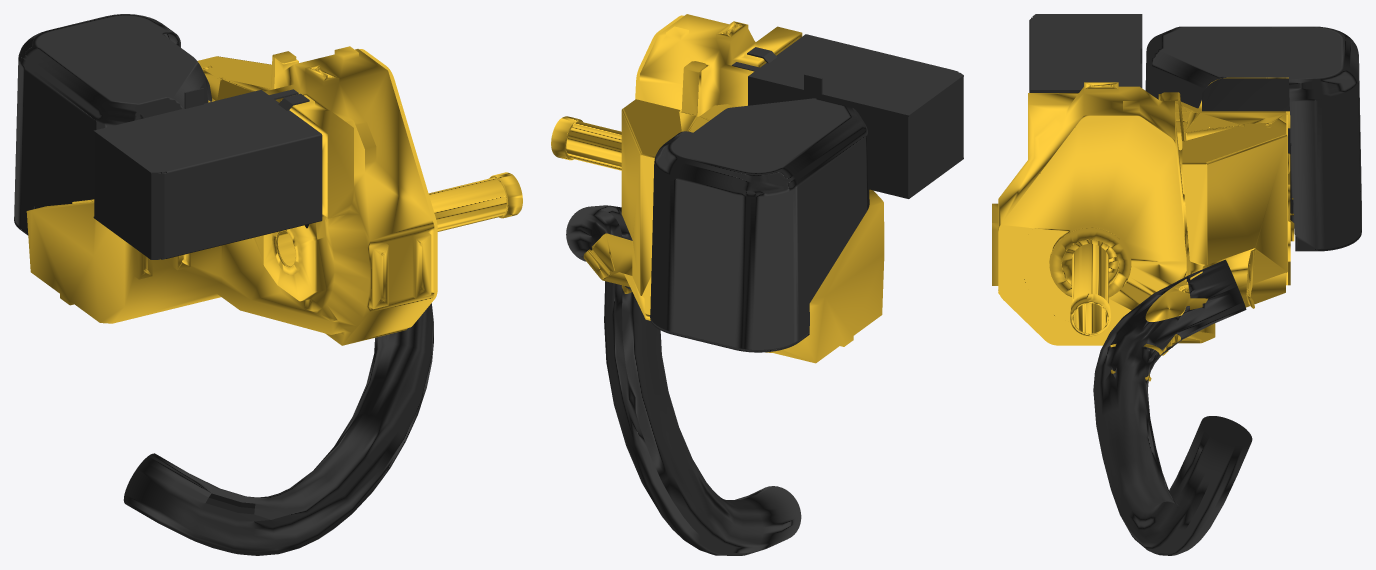
3 views of the same model, side by side, from view 1: azimuth 30°, elevation 25°; view 2: azimuth 150°, elevation 25°; view 3: azimuth 270°, elevation 25° (orthographic). The views are drawn at different scales.
Parts seen in each view (by area): view 1: Node_0x7fd4b7426dd0 (×4); view 2: Node_0x7fd4b7426dd0 (×4); view 3: Node_0x7fd4b7426dd0 (×4).
Boxes of the visible parts, bbox=[...] form: Node_0x7fd4b7426dd0 (×4): bbox=[14, 14, 522, 555]; Node_0x7fd4b7426dd0 (×4): bbox=[551, 14, 963, 555]; Node_0x7fd4b7426dd0 (×4): bbox=[992, 14, 1361, 555].
Bounding box in the file's own units: 0.4602 × 0.5696 × 0.4064.
